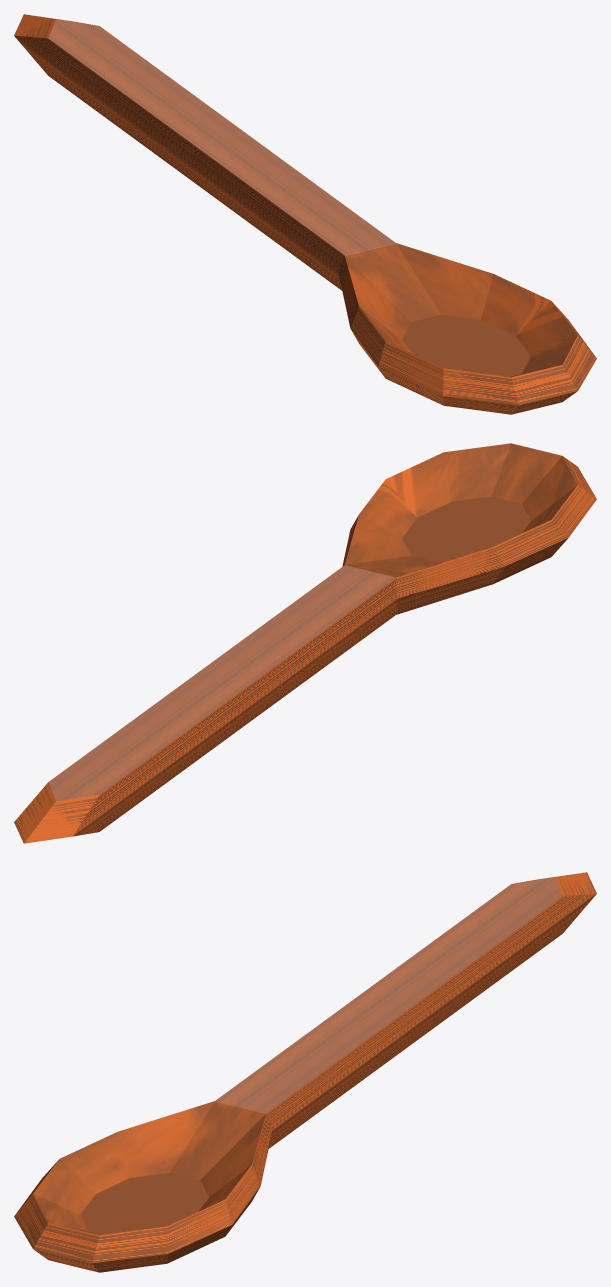
The model's file is CUCHARA DE PALO 01.fbx.
The picture shows the model from 3 angles, top to bottom: view 1: azimuth 30°, elevation 25°; view 2: azimuth 150°, elevation 25°; view 3: azimuth 330°, elevation 25°; orthographic projection.
Parts seen in each view (by area): view 1: Cylinder.004; view 2: Cylinder.004; view 3: Cylinder.004.
Part boxes in pixels (x1=…): Cylinder.004: x1=14, y1=14, x2=596, y2=414; Cylinder.004: x1=14, y1=443, x2=596, y2=843; Cylinder.004: x1=14, y1=872, x2=596, y2=1272.
Size of the model in its own units: 10.75 by 2.02 by 51.3.
Materials: 1 (1 with a texture image).
